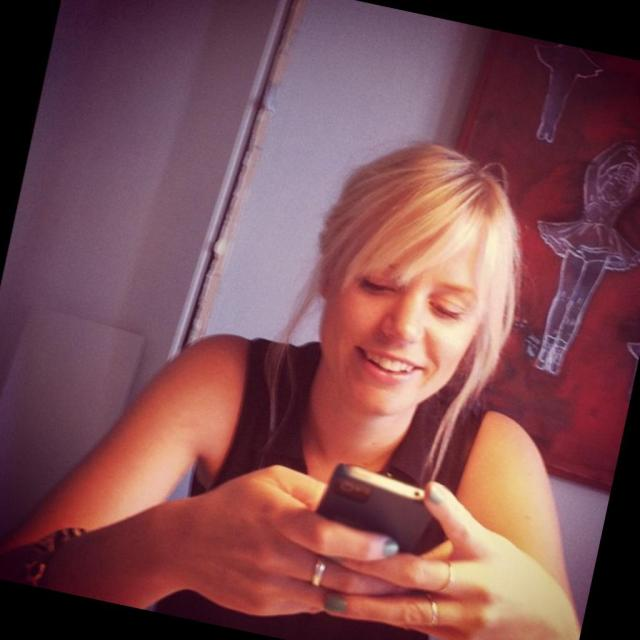phone: (316, 466, 426, 555)
